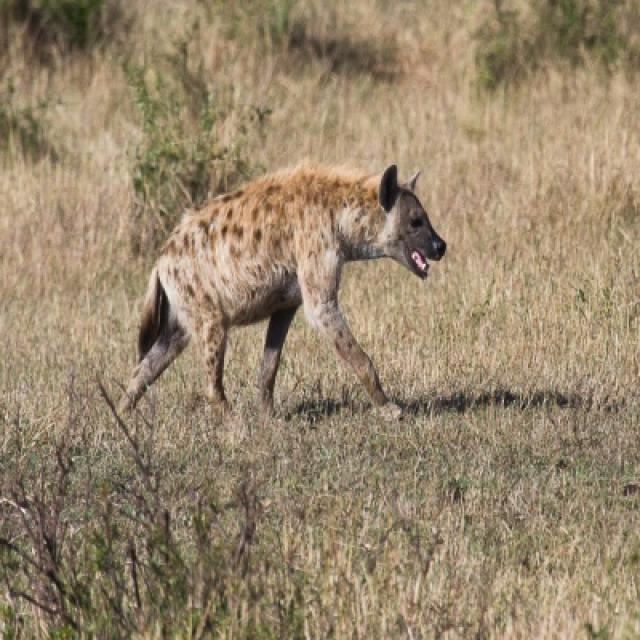hyena: (122, 165, 446, 414)
